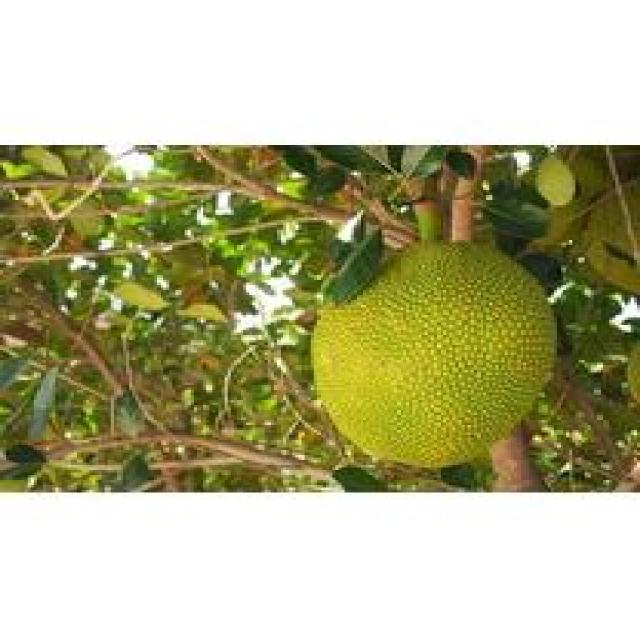Fruit: (302, 230, 572, 478)
